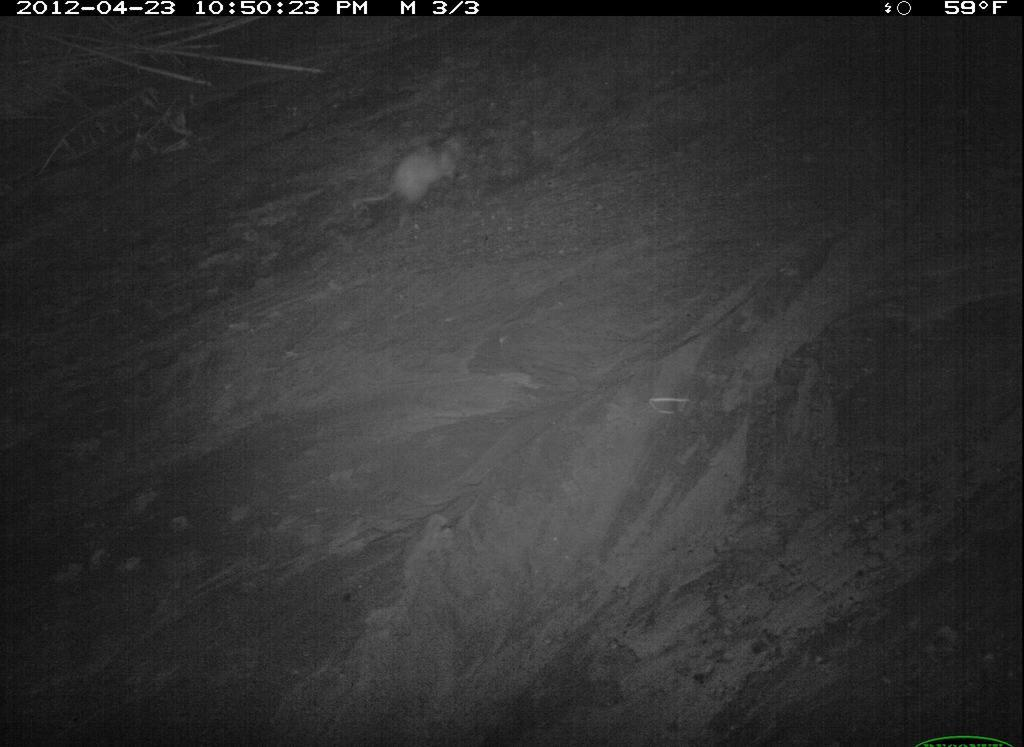opossum: (699, 261, 946, 454)
